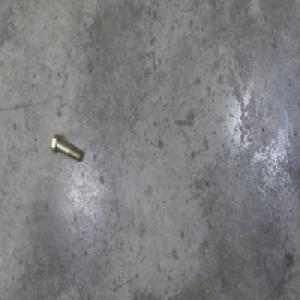Bolt: (52, 132, 82, 163)
